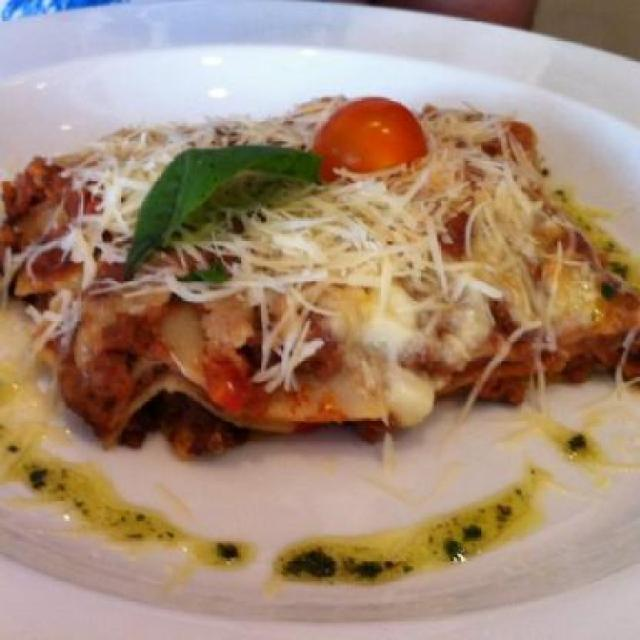Lasagna: (78, 157, 626, 446)
